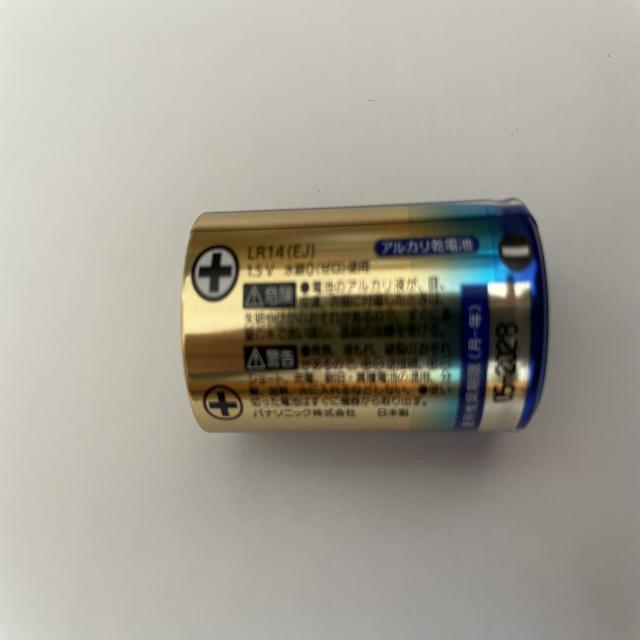hazardous waste: (182, 195, 551, 442)
